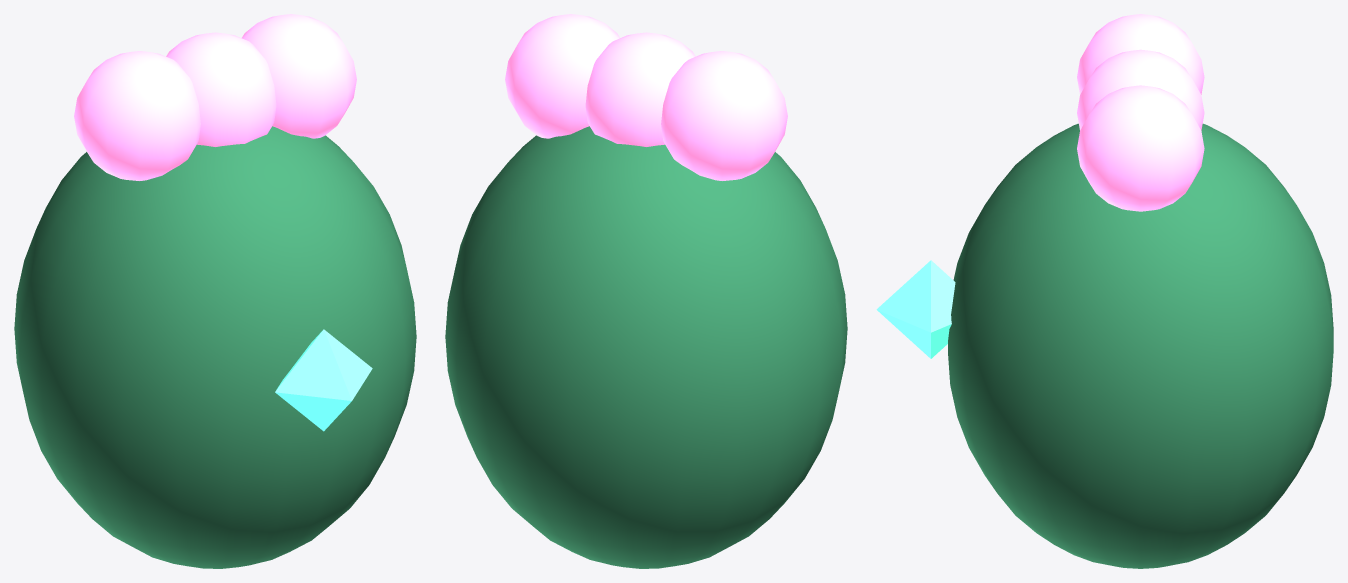
Rendered from mossy_stage3.glb.
3 views of the same model, side by side, from view 1: azimuth 30°, elevation 25°; view 2: azimuth 150°, elevation 25°; view 3: azimuth 270°, elevation 25° (orthographic). The views are drawn at different scales.
Parts seen in each view (by area): view 1: Body; view 2: Body; view 3: Body.
Boxes of the visible parts, bbox=[...] form: Body: bbox=[14, 14, 416, 568]; Body: bbox=[445, 14, 847, 568]; Body: bbox=[876, 14, 1333, 568].
Bounding box in the file's own units: 1.15 × 1.63 × 1.35.
